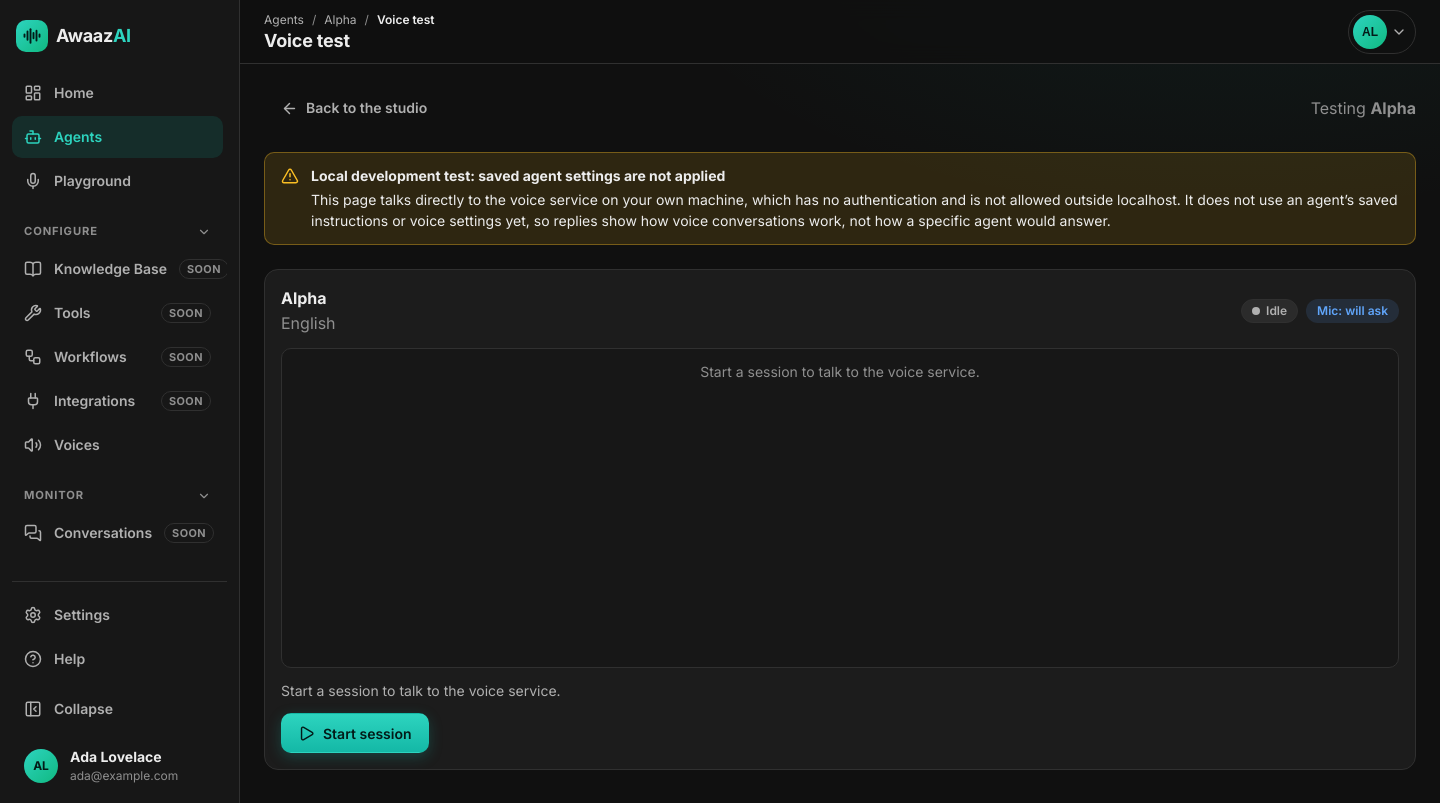
Scenario: transcript › keeps every finished turn in order, as a history of the session
Click the button "Start session" at point(355, 733), box [281, 713, 428, 753]
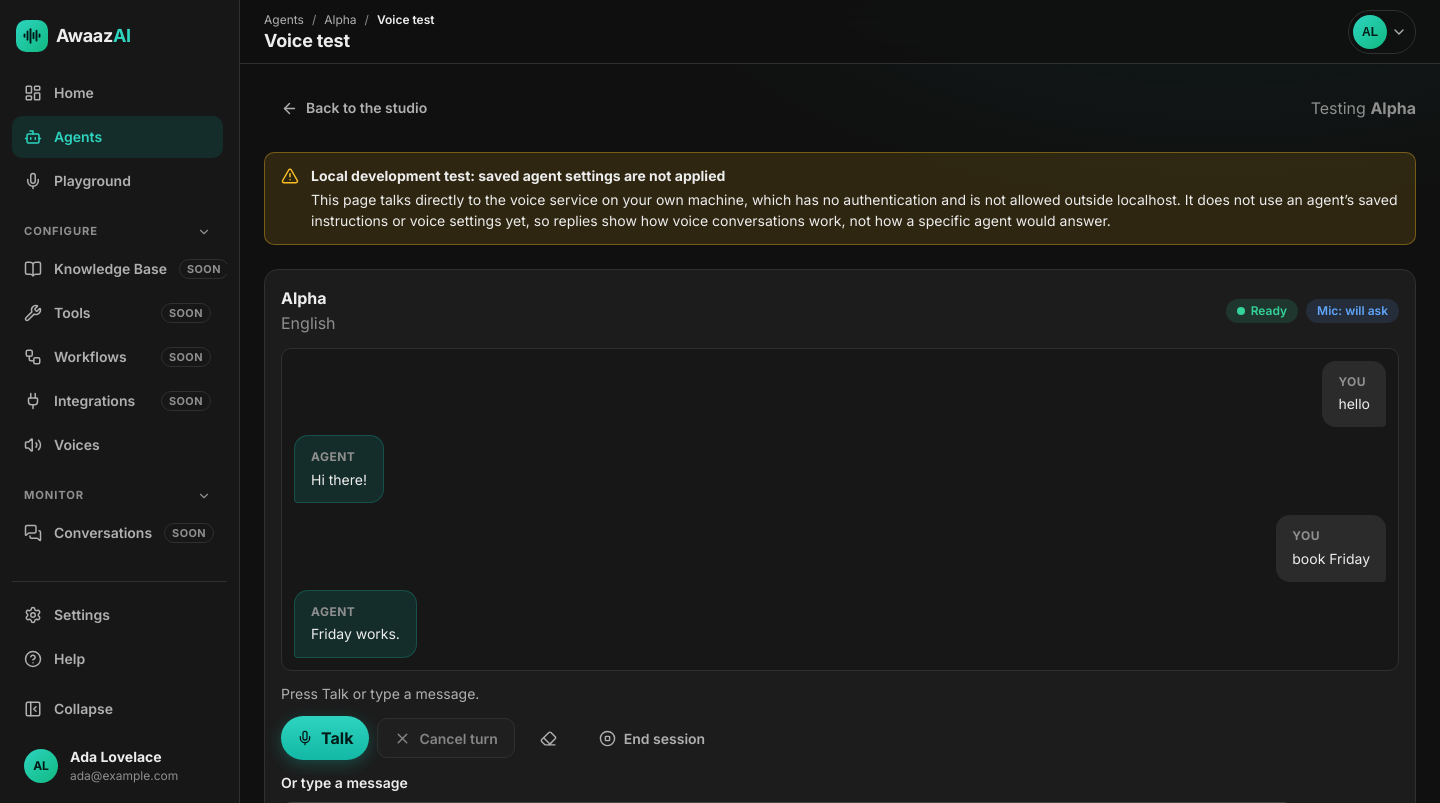
Now the elements "." read "Youhello", "AgentHi there!", "Youbook Friday", "AgentFriday works.", in this order, box [1322, 361, 1386, 427]; [294, 435, 384, 503]; [1276, 515, 1386, 582]; [294, 590, 417, 658]
